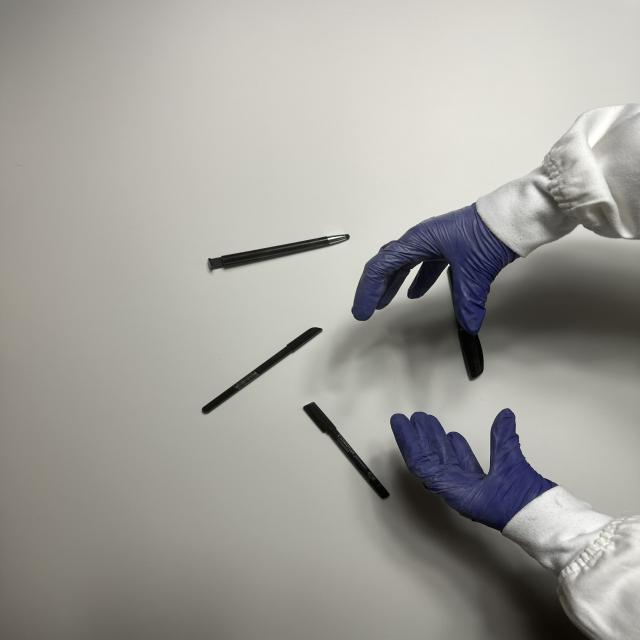gloves_contaminated: (352, 204, 518, 335), (391, 410, 555, 530)
